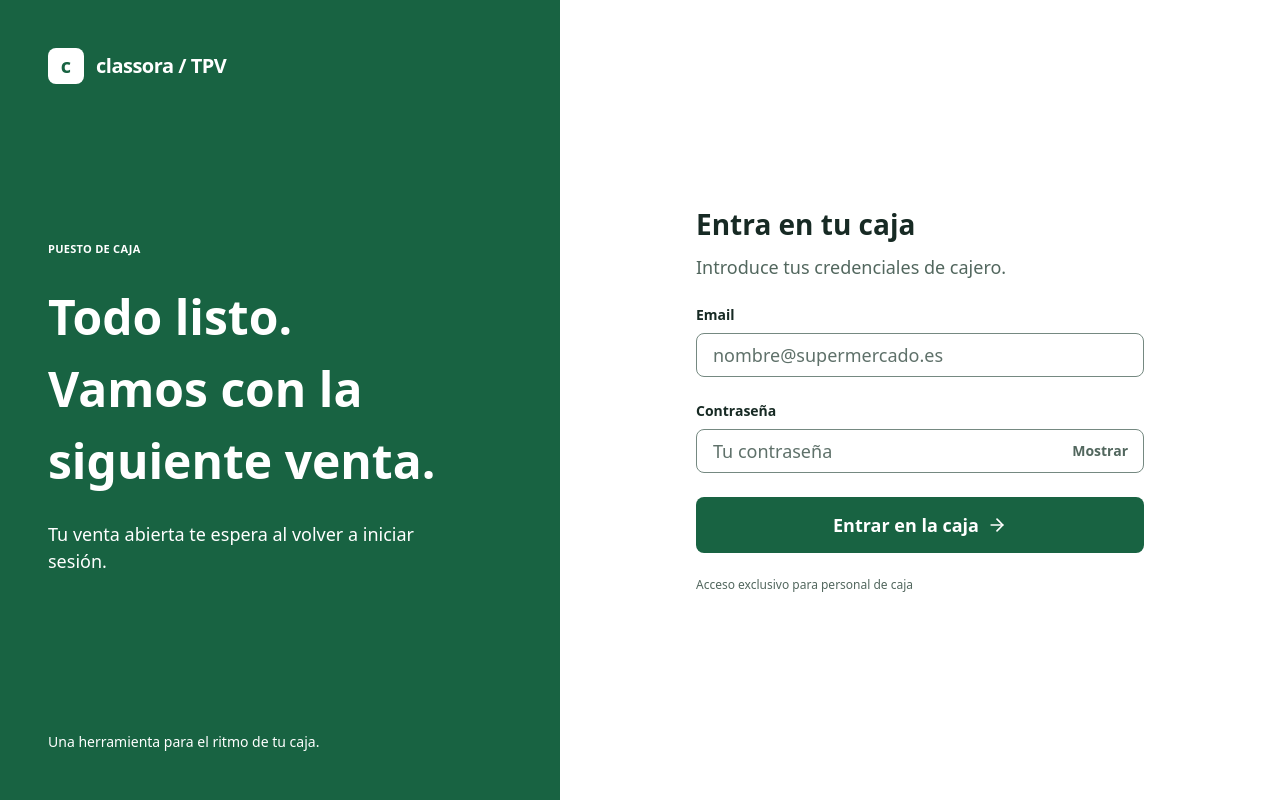
Scenario: Auth: Login Screen Integration › L-02: should show the credentials error and clear the password on 401
Check: the heading "Entra en tu caja" is shown, box [696,205,915,243]
Step 1. Type "cajero@pos.local" into the field labelled "Email" → (920, 355), box [696,333,1144,377]
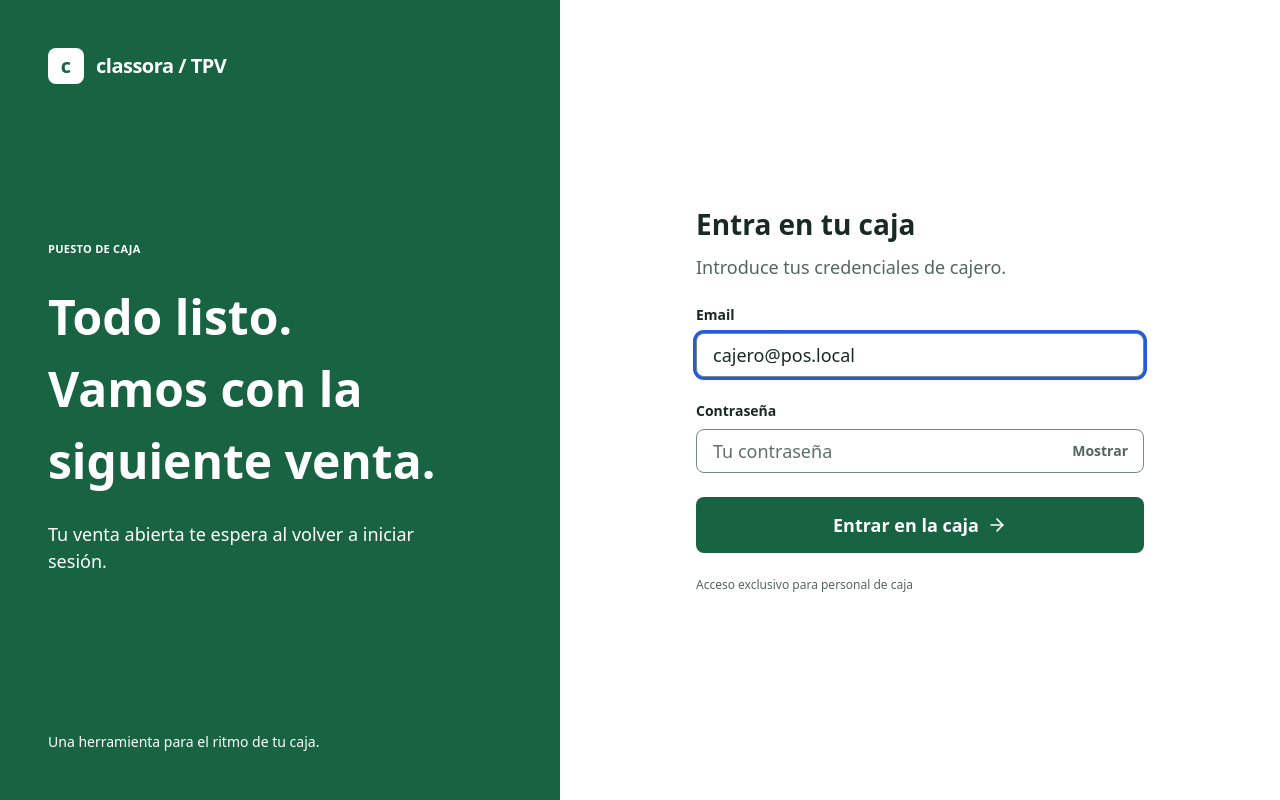
Step 2. Type "wrong-password" into the password field labelled "Contraseña" → (920, 451), box [696,429,1144,473]
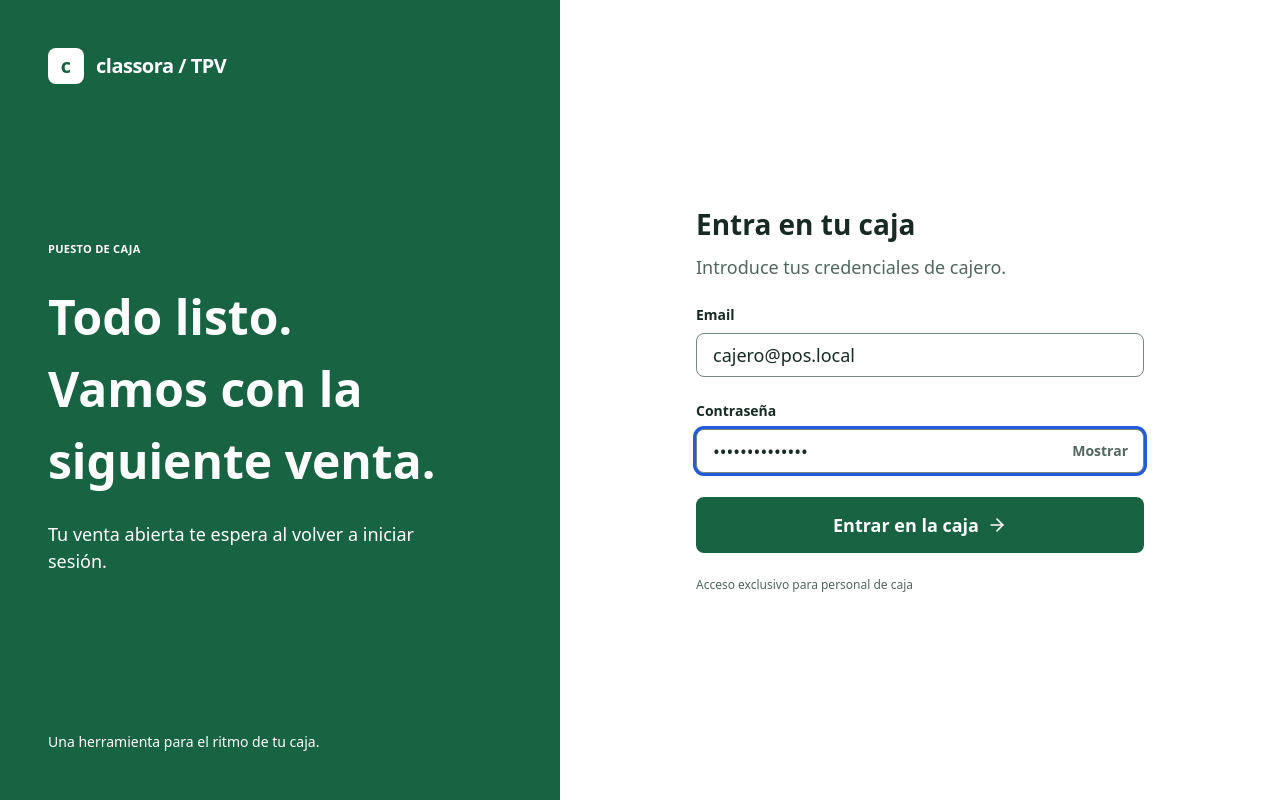
Step 3. Click the button "Entrar en la caja" → (920, 525), box [696,497,1144,553]
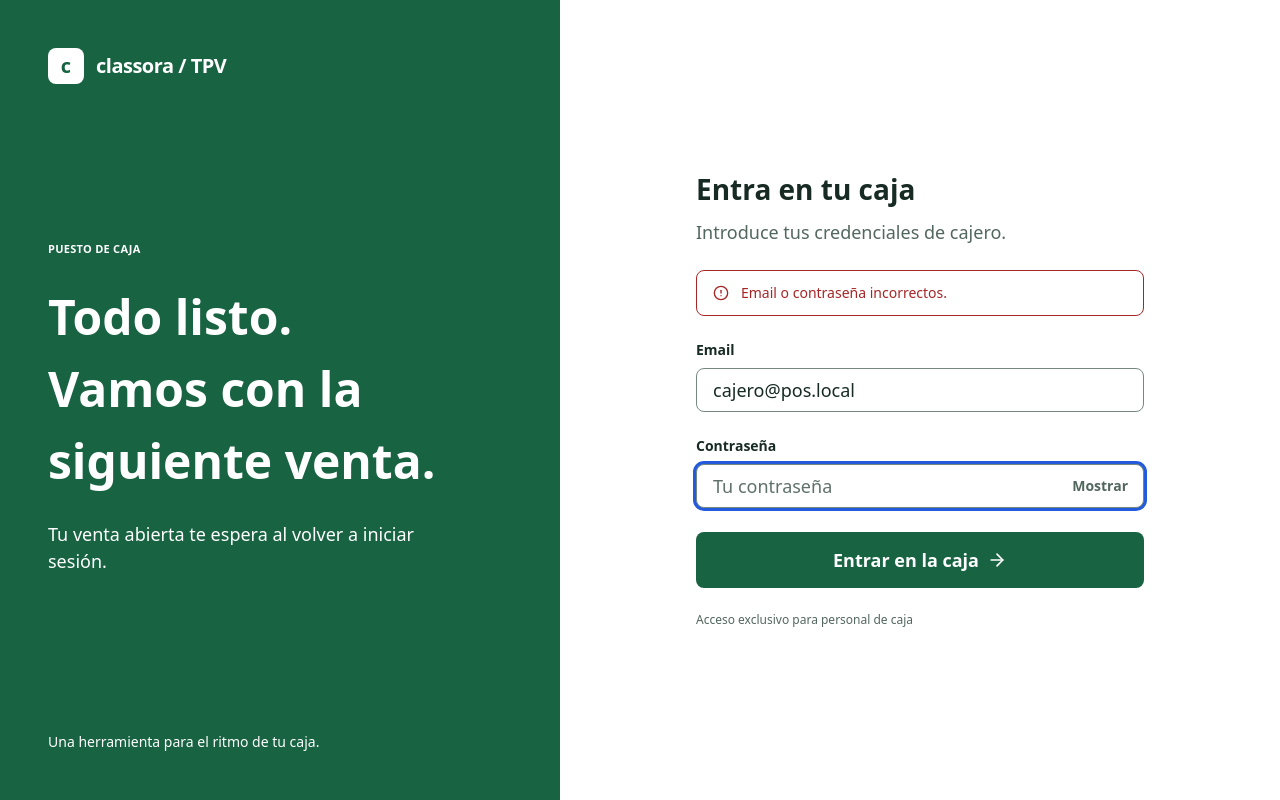
Check: the message reads "Email o contraseña incorrectos.", box [741,283,947,302]
Check: the password field labelled "Contraseña" is empty, box [696,464,1144,508]
